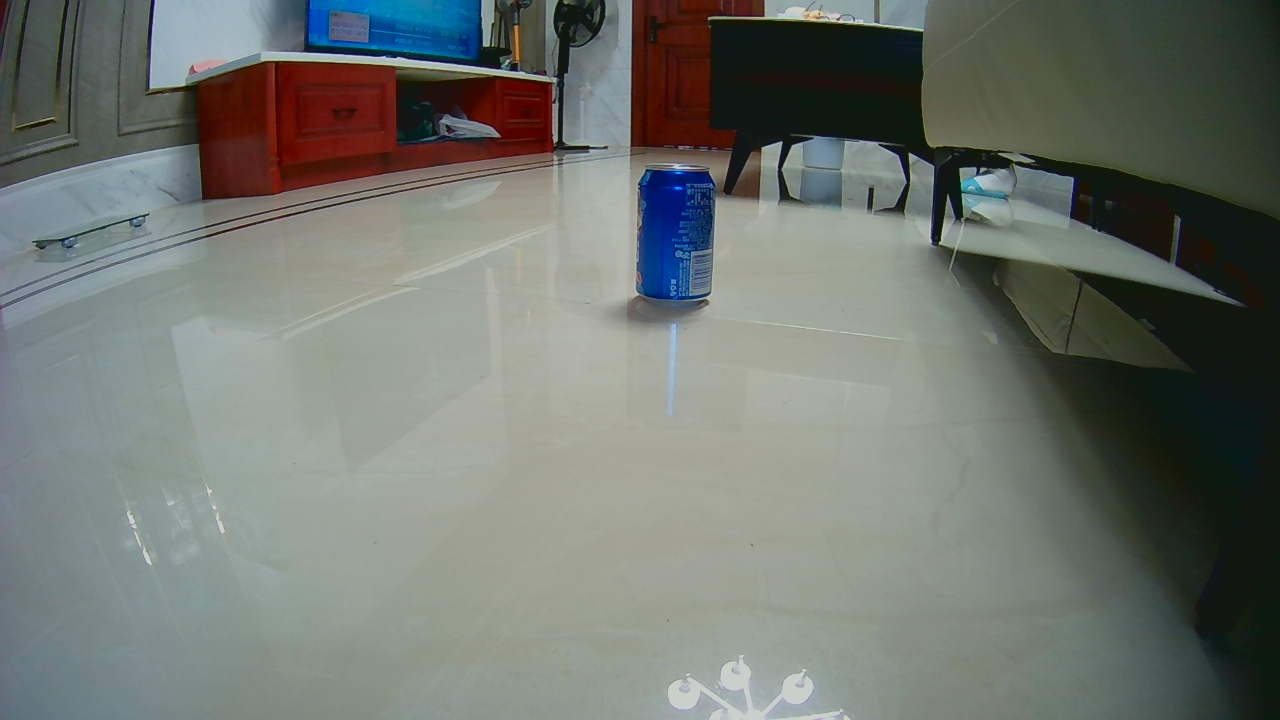pessi: (638, 165, 713, 310)
